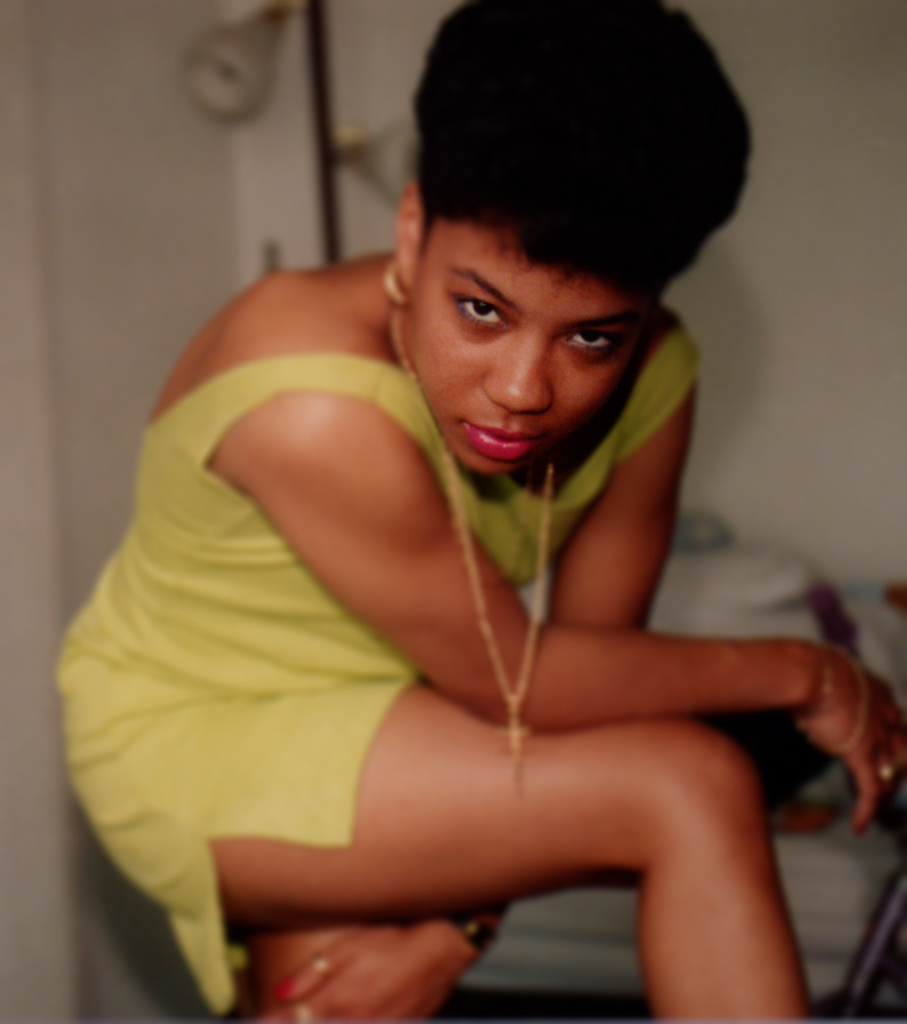Human_hand: (254, 921, 471, 1023), (798, 645, 906, 837)
